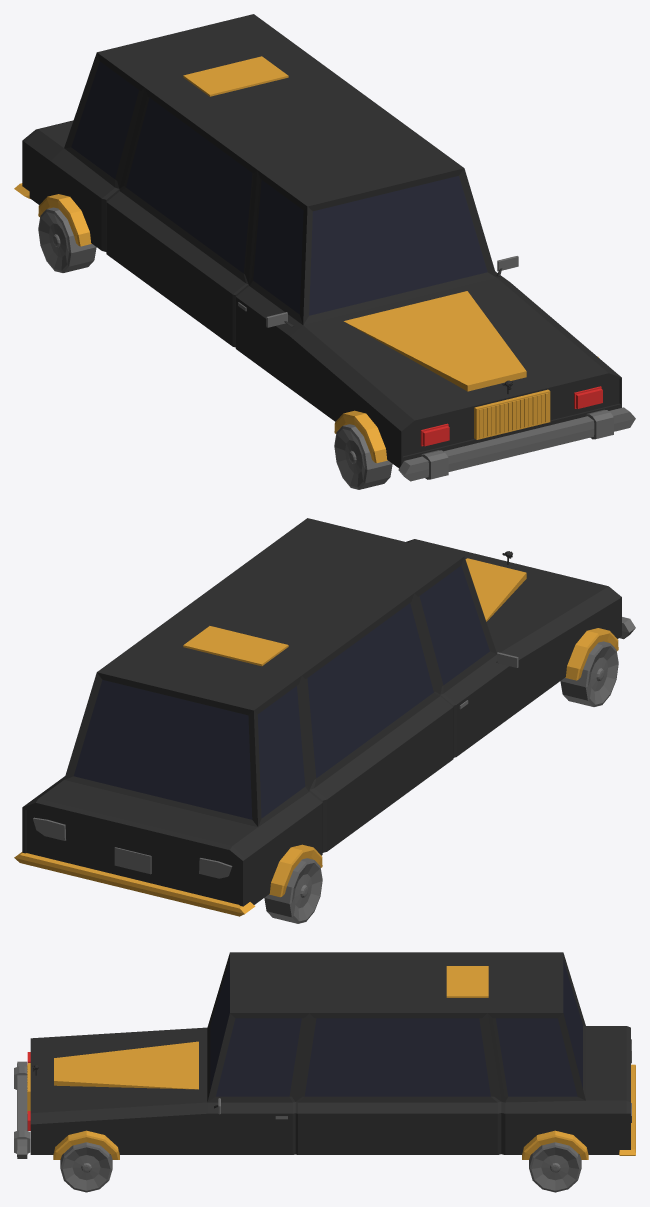
File: Limo.fbx
3 views of the same model, one above another, from view 1: azimuth 30°, elevation 25°; view 2: azimuth 150°, elevation 25°; view 3: azimuth 270°, elevation 25° (orthographic). The views are drawn at different scales.
Parts seen in each view (by area): view 1: Cube; view 2: Cube; view 3: Cube.
Part boxes in pixels (x1,y1,x2,y2): Cube: (14,14,635,489); Cube: (14,518,635,923); Cube: (14,952,635,1192).
Size of the model in its own units: 7.58 by 2.82 by 2.19.
